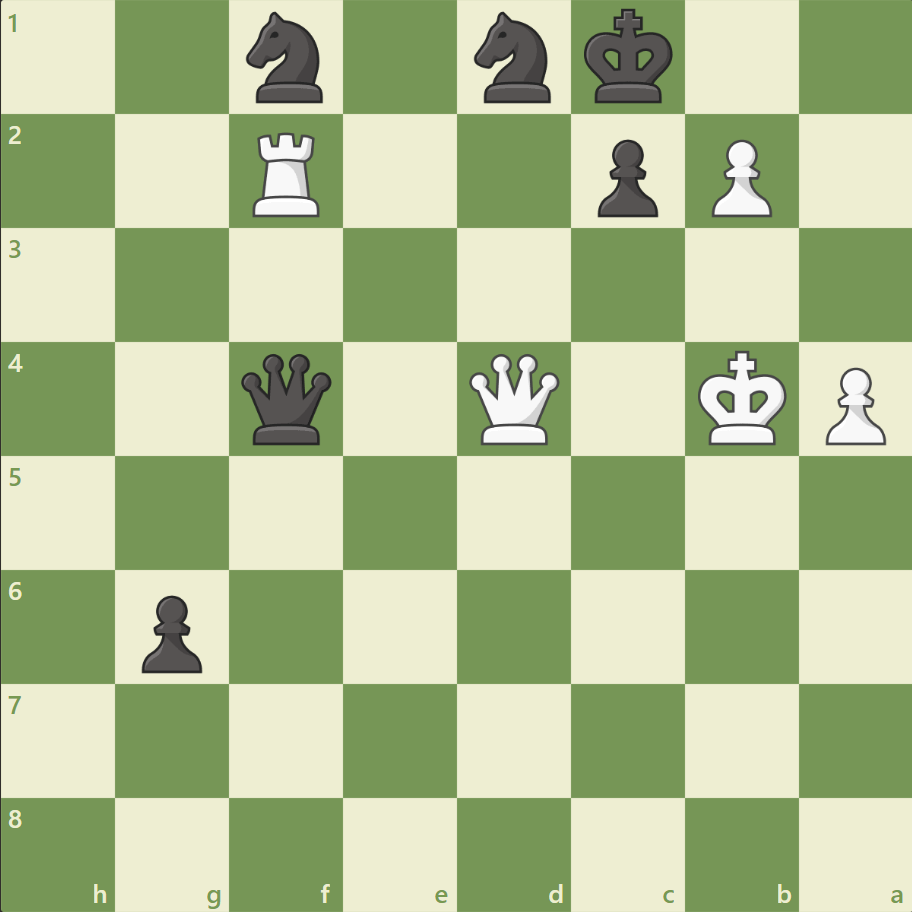K: (692, 344, 792, 452)
P: (701, 132, 776, 223), (815, 359, 889, 450)
Q: (464, 349, 563, 449)
R: (246, 125, 329, 222)
k: (579, 4, 679, 112)
n: (465, 7, 562, 110), (238, 7, 335, 110)
p: (133, 586, 208, 677), (588, 132, 662, 223)
q: (237, 349, 336, 449)
